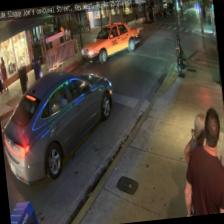person: (175, 104, 224, 216), (179, 111, 216, 216)
